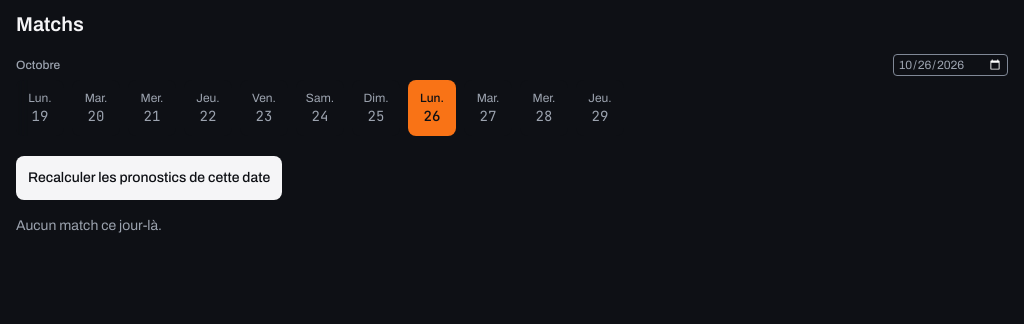
recalcul : matchs déjà commencés ignorés › nomme le match commencé ignoré (jamais un silence)
What coordinates should you click on to do the following:
click the button "Recalculer les pronostics de cette date"
I would click on:
 (149, 178)
Its box is [16,156,282,200].
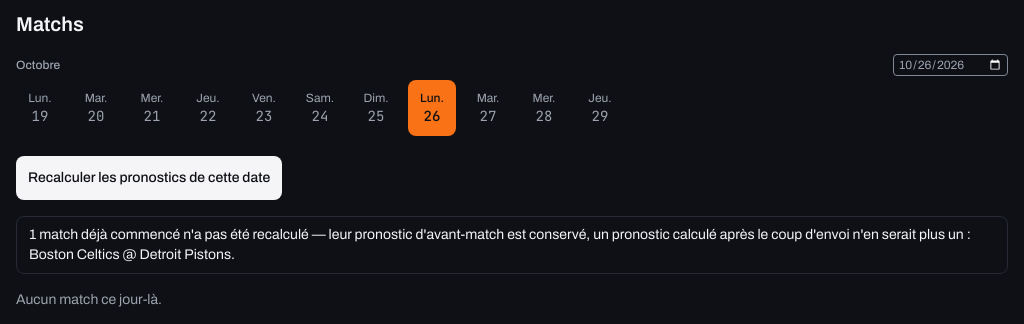
Expected: the message with test id "skipped-started" is shown, [16,216,1008,274]
Expected: the message with test id "skipped-started" shows "1 match déjà commencé n'a pas été recalculé", [29,227,971,262]
Expected: the message with test id "skipped-started" shows "Boston Celtics @ Detroit Pistons", [29,227,971,262]
